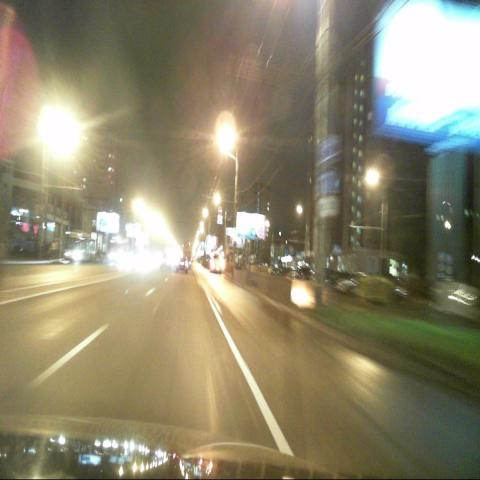6_6: (324, 134, 342, 164)
